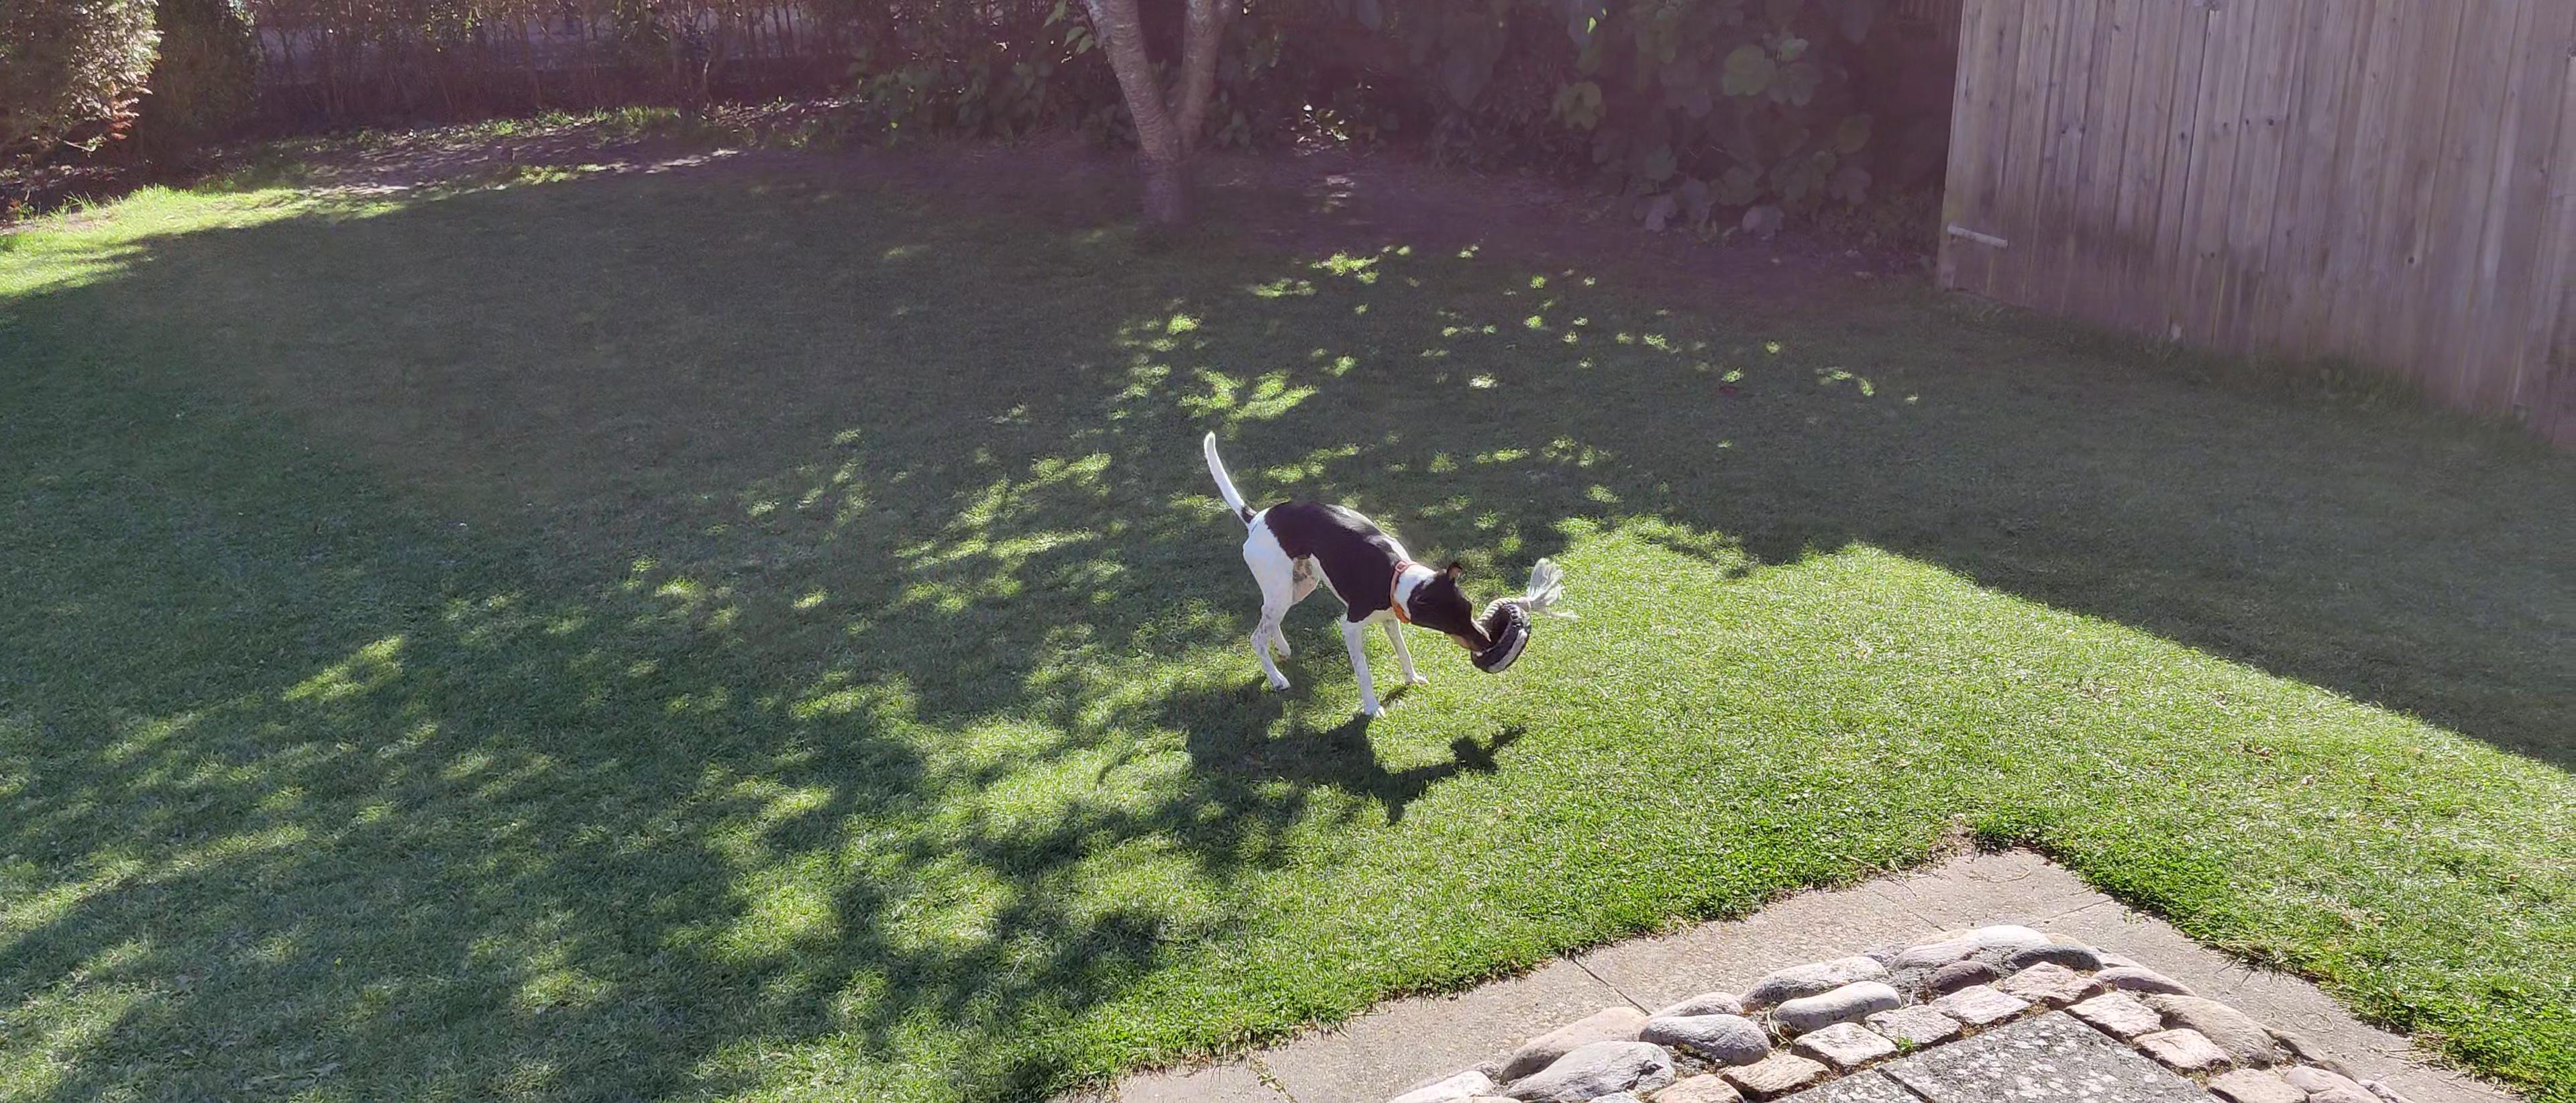Dog: (1193, 409, 1497, 720)
